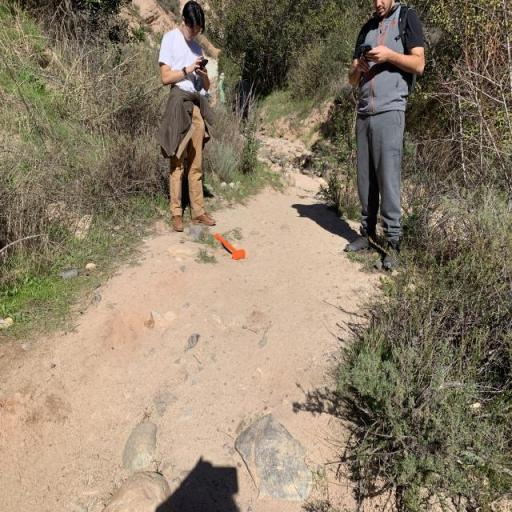mallet: (214, 234, 246, 260)
